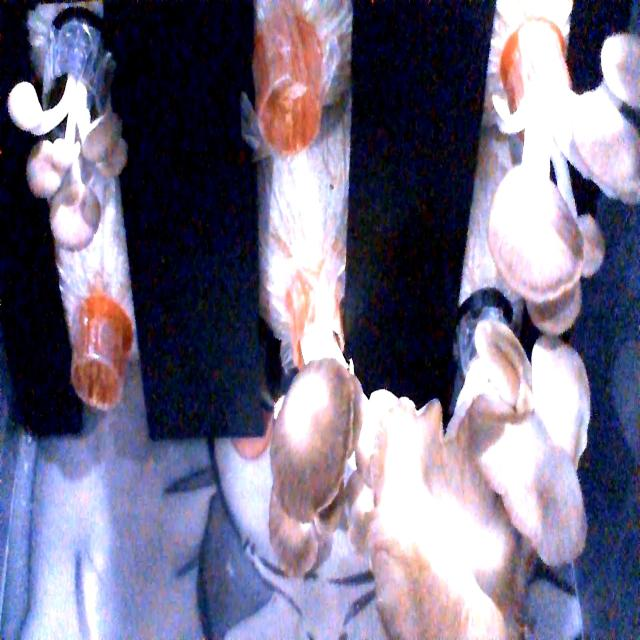big: (362, 378, 596, 640), (478, 20, 640, 336), (262, 357, 391, 568)
nfound: (252, 45, 326, 187), (68, 353, 140, 439)
small: (1, 70, 149, 254)
